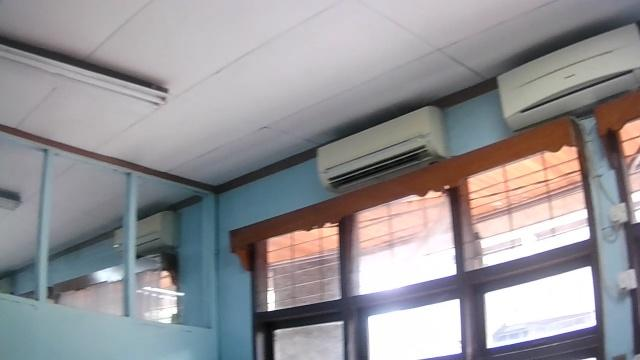AC: (496, 20, 639, 133), (316, 102, 448, 193)
